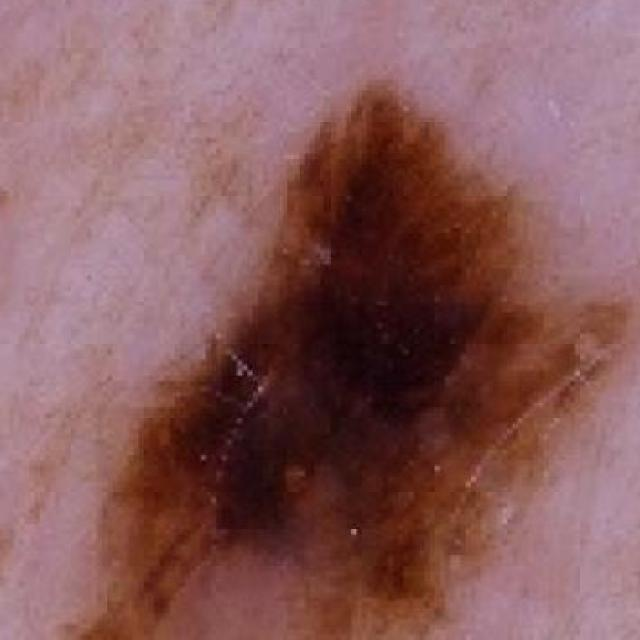MEL: (45, 76, 626, 640)
